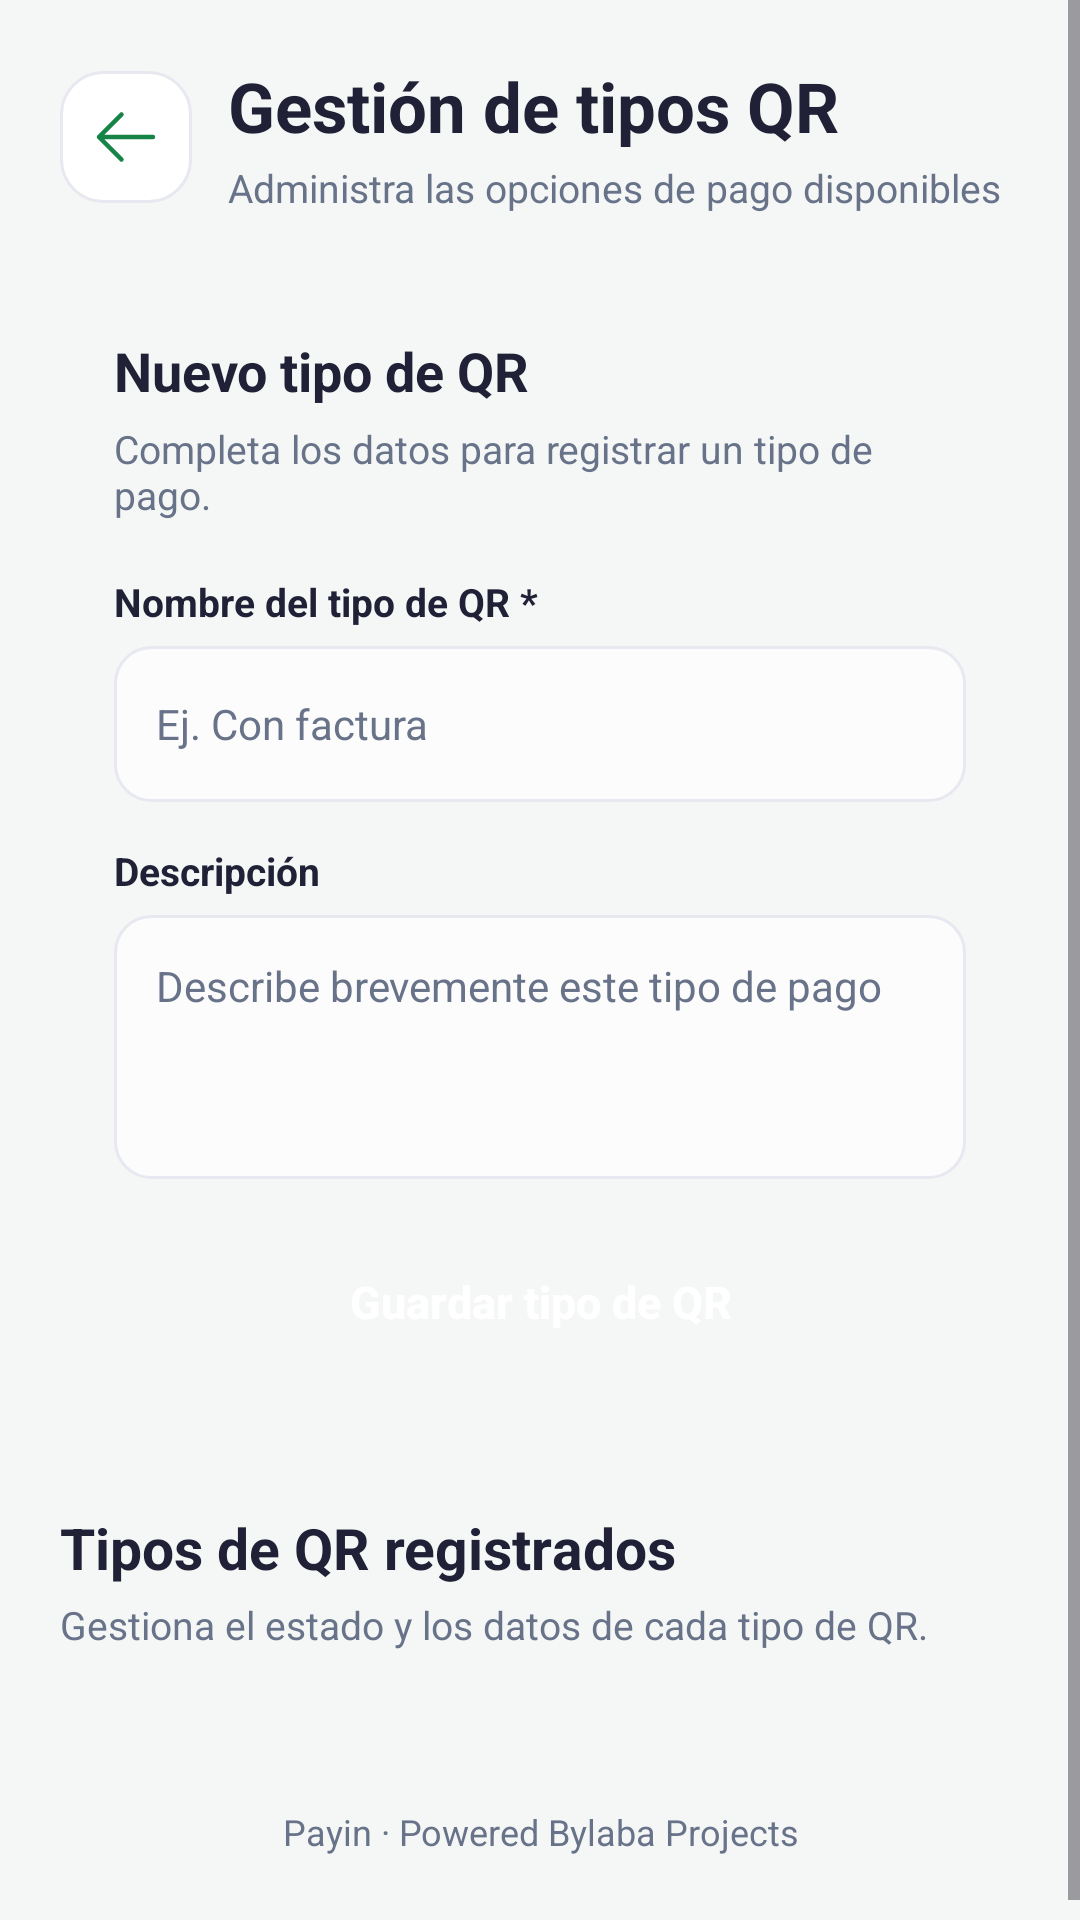

Icons on this 1080x1920 Android screen, each with its box as box(x1, y1, x2, y2):
Volver: box(60, 71, 192, 203)
